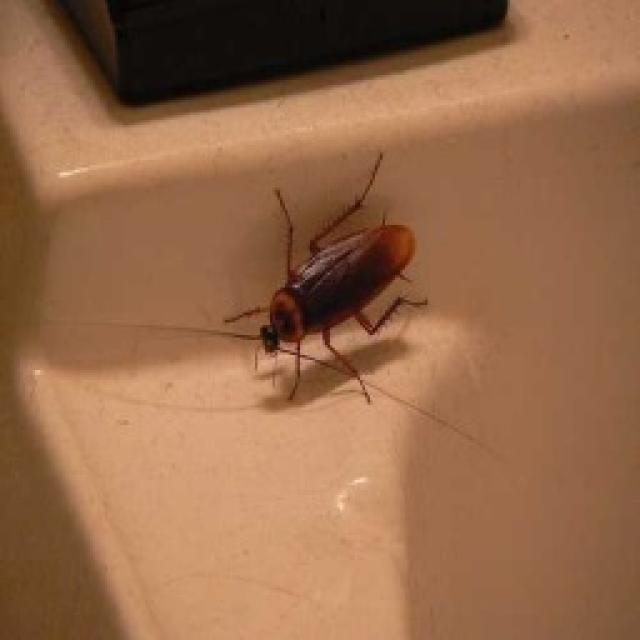cockroach: (220, 148, 432, 409)
